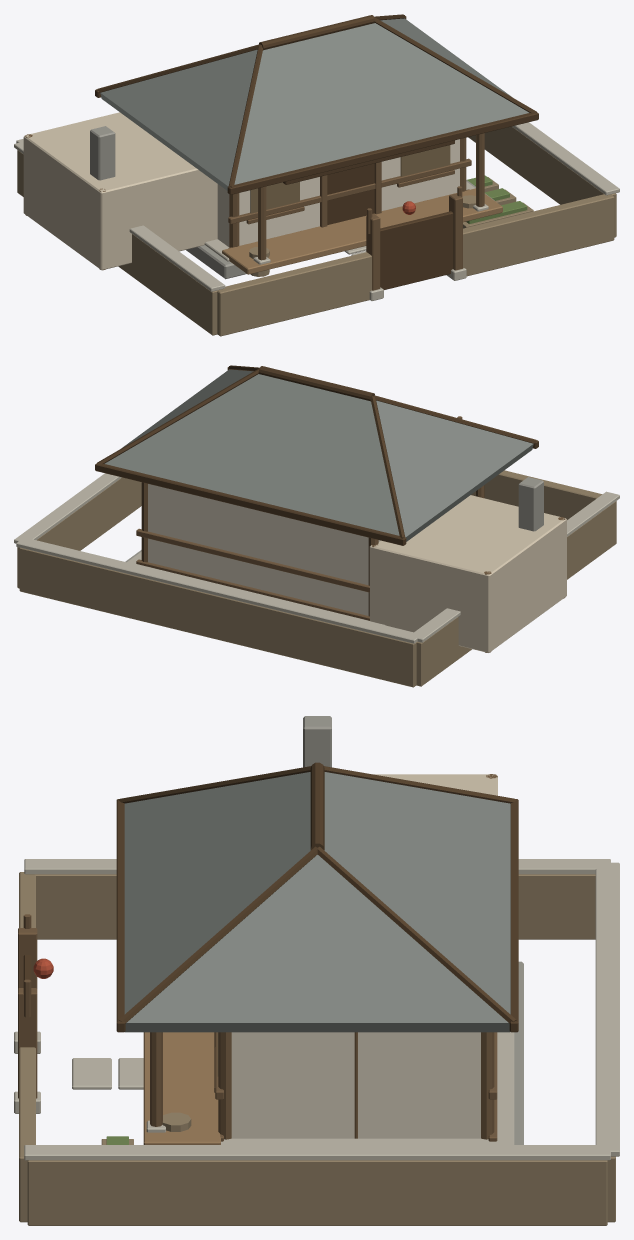
File: hanjin_house_tile.glb
3 renders of one model, top to bottom at view 1: azimuth 30°, elevation 25°; view 2: azimuth 150°, elevation 25°; view 3: azimuth 270°, elevation 25°, orthographic. The views are drawn at different scales.
Parts seen in each view (by area): view 1: HanjinHouse_tile; view 2: HanjinHouse_tile; view 3: HanjinHouse_tile.
Part boxes in pixels (left/top/right/bottom): HanjinHouse_tile: left=14, top=14, right=619, bottom=336; HanjinHouse_tile: left=14, top=365, right=619, bottom=687; HanjinHouse_tile: left=14, top=716, right=619, bottom=1225.
Size of the model in its own units: 11.64 by 4.74 by 9.4.
